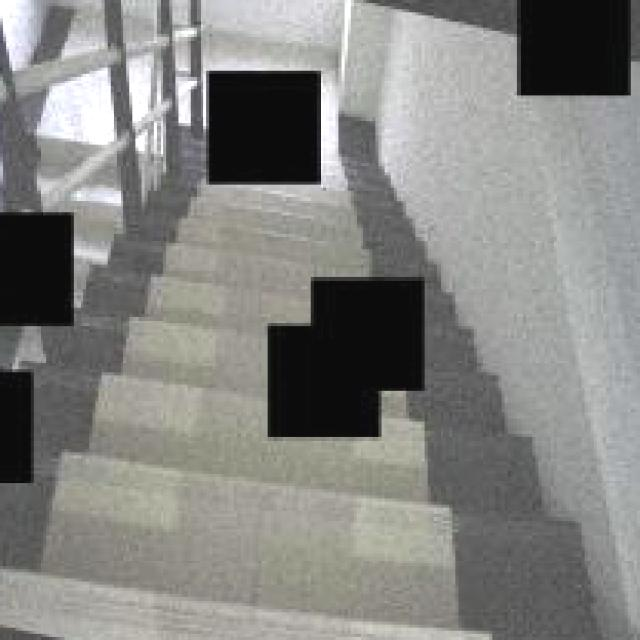downstair: (38, 453, 607, 640)
